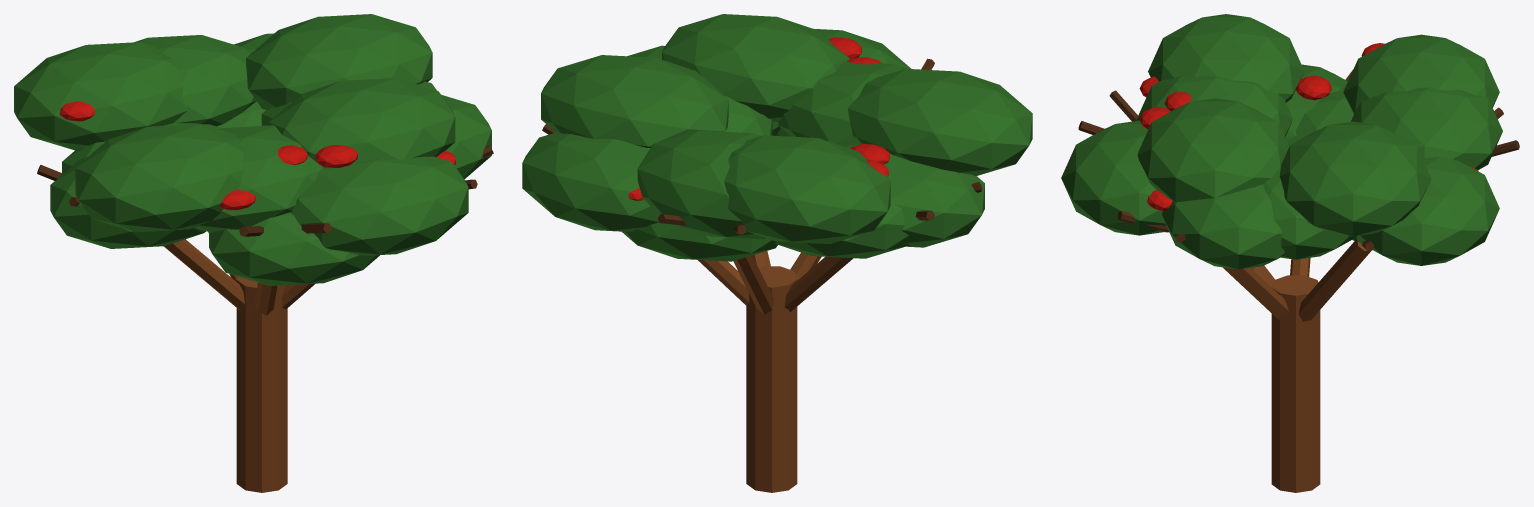
Rendered from PohonFlamboyan.obj.
The picture shows the model from 3 angles, left to right: view 1: azimuth 30°, elevation 25°; view 2: azimuth 150°, elevation 25°; view 3: azimuth 270°, elevation 25°; orthographic projection. The views are drawn at different scales.
Visible parts, largest first — view 1: CANOPY_8, CANOPY_5, CANOPY_11, CANOPY_1, CANOPY_12, TRUNK, CANOPY_10, CANOPY_4, CANOPY_9, CANOPY_7, CANOPY_13, MAIN_BRANCH_2 (+6 smaller); view 2: CANOPY_8, CANOPY_5, CANOPY_1, CANOPY_12, TRUNK, CANOPY_2, CANOPY_4, CANOPY_7, CANOPY_9, CANOPY_3, CANOPY_6, MAIN_BRANCH_2 (+4 smaller); view 3: CANOPY_1, CANOPY_12, TRUNK, CANOPY_8, CANOPY_2, CANOPY_4, CANOPY_11, CANOPY_13, CANOPY_5, CANOPY_9, CANOPY_0, MAIN_BRANCH_0 (+4 smaller).
Boxes of the visible parts, box(x1,y1,x2,y2) form: CANOPY_8: box(75, 124, 244, 232); CANOPY_5: box(14, 42, 187, 150); CANOPY_11: box(290, 156, 468, 255); CANOPY_1: box(246, 14, 432, 109); CANOPY_12: box(268, 78, 455, 167); TRUNK: box(236, 276, 287, 492); CANOPY_10: box(209, 212, 379, 285); CANOPY_4: box(134, 35, 256, 126); CANOPY_9: box(195, 125, 323, 232); CANOPY_7: box(50, 156, 205, 248); CANOPY_13: box(441, 95, 491, 178); MAIN_BRANCH_2: box(164, 239, 244, 311); CANOPY_8: box(848, 68, 1032, 175); CANOPY_5: box(724, 135, 890, 243); CANOPY_1: box(541, 55, 728, 148); CANOPY_12: box(662, 14, 849, 122); TRUNK: box(746, 266, 797, 492); CANOPY_2: box(522, 132, 659, 231); CANOPY_4: box(637, 130, 766, 239); CANOPY_7: box(844, 144, 984, 247); CANOPY_9: box(778, 61, 907, 146); CANOPY_3: box(622, 222, 777, 261); CANOPY_6: box(775, 196, 909, 258); MAIN_BRANCH_2: box(784, 256, 852, 311); CANOPY_1: box(1279, 121, 1431, 236); CANOPY_12: box(1137, 98, 1289, 202); TRUNK: box(1271, 275, 1320, 492); CANOPY_8: box(1148, 14, 1304, 102); CANOPY_2: box(1356, 156, 1499, 265); CANOPY_4: box(1351, 87, 1502, 169); CANOPY_11: box(1061, 120, 1165, 235); CANOPY_13: box(1162, 184, 1285, 269); CANOPY_5: box(1343, 34, 1499, 113); CANOPY_9: box(1136, 75, 1293, 137); CANOPY_0: box(1263, 145, 1356, 259); MAIN_BRANCH_0: box(1298, 239, 1370, 321).
Bounding box in the file's own units: 4.49 × 4.2 × 4.43.
